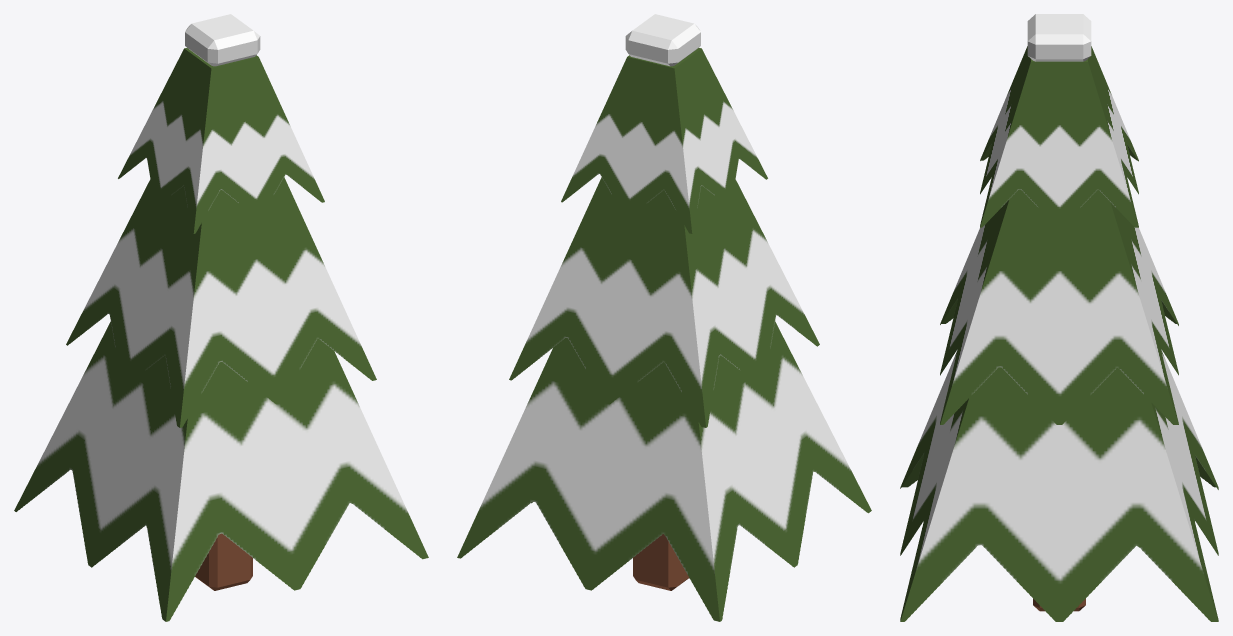
The model's file is Tree 2.fbx.
The picture shows the model from 3 angles, left to right: view 1: azimuth 30°, elevation 25°; view 2: azimuth 150°, elevation 25°; view 3: azimuth 270°, elevation 25°; orthographic projection. The views are drawn at different scales.
Visible parts, largest first — view 1: Spruce_Crown_3, Spruce_Crown_2, Spruce_Crown_1, Snow_1, Trunk; view 2: Spruce_Crown_3, Spruce_Crown_2, Spruce_Crown_1, Snow_1, Trunk; view 3: Spruce_Crown_3, Spruce_Crown_2, Spruce_Crown_1, Snow_1.
Part boxes in pixels (box(x1,y1,x2,y2)): Spruce_Crown_3: box(14, 321, 428, 621); Spruce_Crown_2: box(66, 177, 376, 427); Spruce_Crown_1: box(118, 48, 324, 233); Snow_1: box(185, 14, 260, 66); Trunk: box(195, 533, 252, 590); Spruce_Crown_3: box(457, 321, 871, 621); Spruce_Crown_2: box(509, 177, 819, 427); Spruce_Crown_1: box(561, 48, 767, 233); Snow_1: box(625, 14, 700, 66); Trunk: box(633, 534, 689, 590); Spruce_Crown_3: box(900, 349, 1218, 621); Spruce_Crown_2: box(940, 189, 1178, 424); Spruce_Crown_1: box(980, 46, 1138, 227); Snow_1: box(1027, 14, 1091, 61).
Bounding box in the file's own units: 1.2 × 2.41 × 1.2.
1 material, 1 textured.
